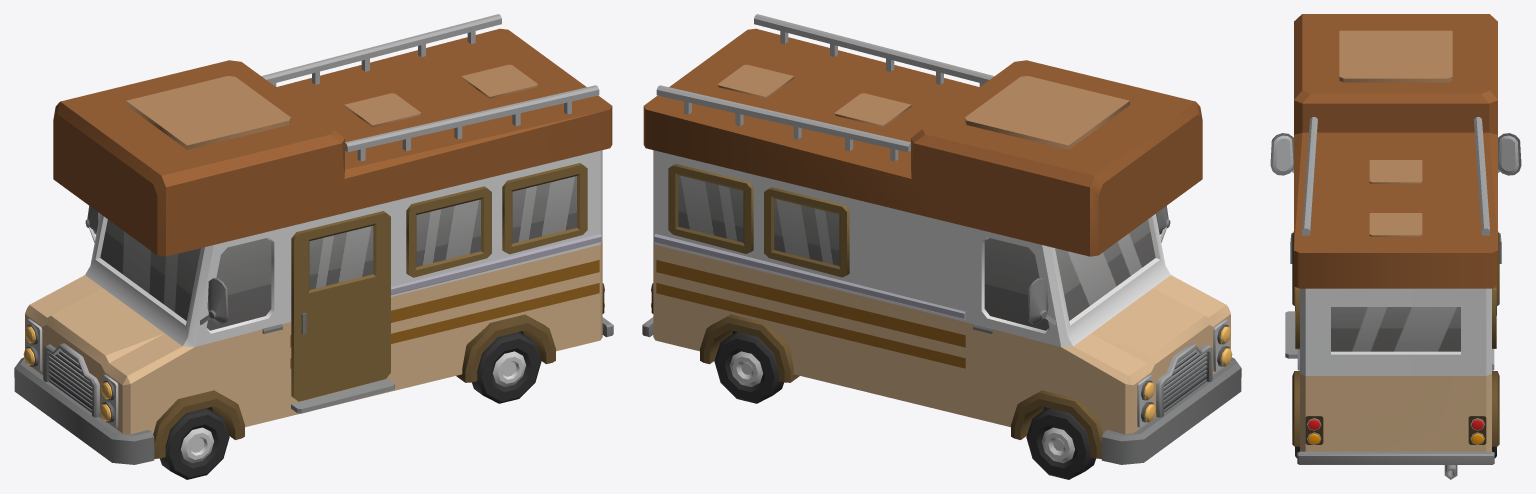
File: RVCar_A.gltf
3 views of the same model, side by side, from view 1: azimuth 30°, elevation 25°; view 2: azimuth 150°, elevation 25°; view 3: azimuth 270°, elevation 25° (orthographic). The views are drawn at different scales.
Visible parts, largest first — view 1: RVCar_A, RL, FL; view 2: RVCar_A, RR, FR; view 3: RVCar_A.
Boxes of the visible parts, x1,y1,x2,y2 form: RVCar_A: (14,14,613,464); RL: (472,332,541,403); FL: (160,408,229,479); RVCar_A: (642,14,1241,464); RR: (714,332,783,403); FR: (1026,408,1095,479); RVCar_A: (1270,14,1521,479).
Bounding box in the file's own units: 4.14 × 2.46 × 1.94.
Materials: 4 (4 with a texture image).
